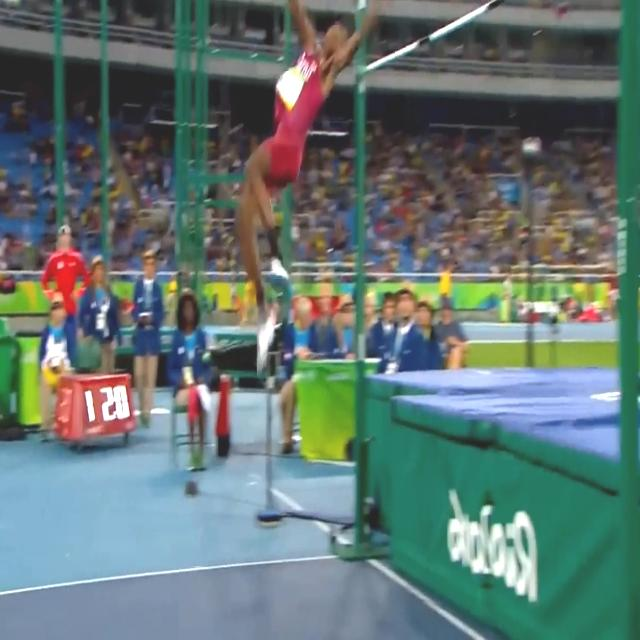jump: (235, 0, 410, 377)
